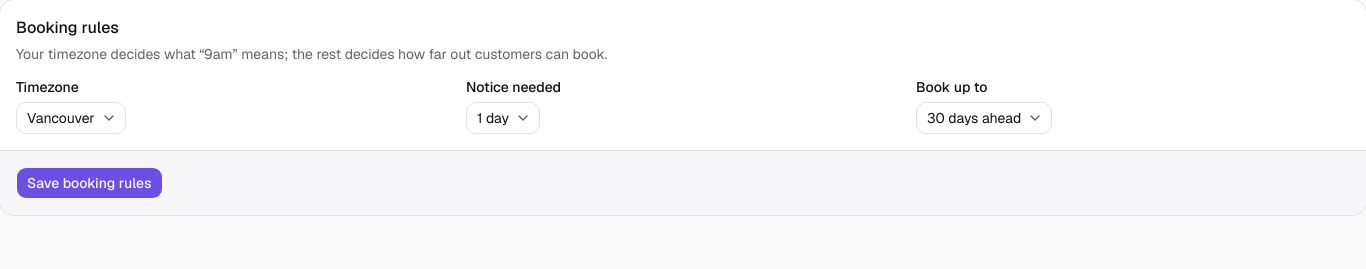
Test: BookingSettingsForm › surfaces a rejected timezone
Click the button "Save booking rules".
click(89, 183)  # box [16,167,162,199]
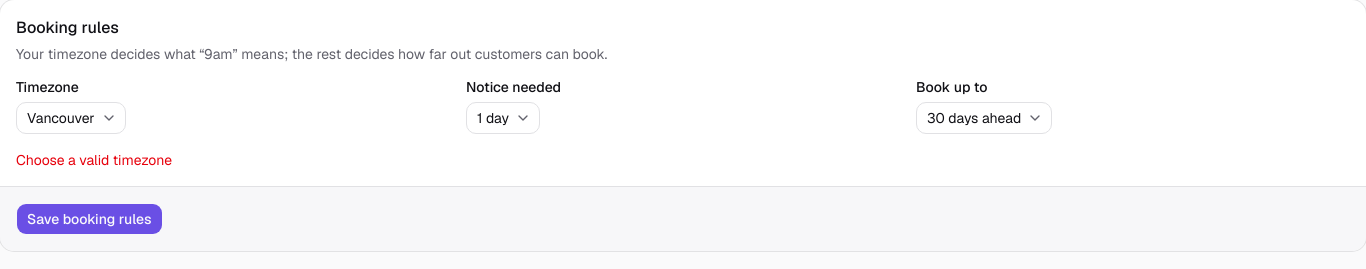
Check: the message reads "Choose a valid timezone", box [16,151,172,169]
